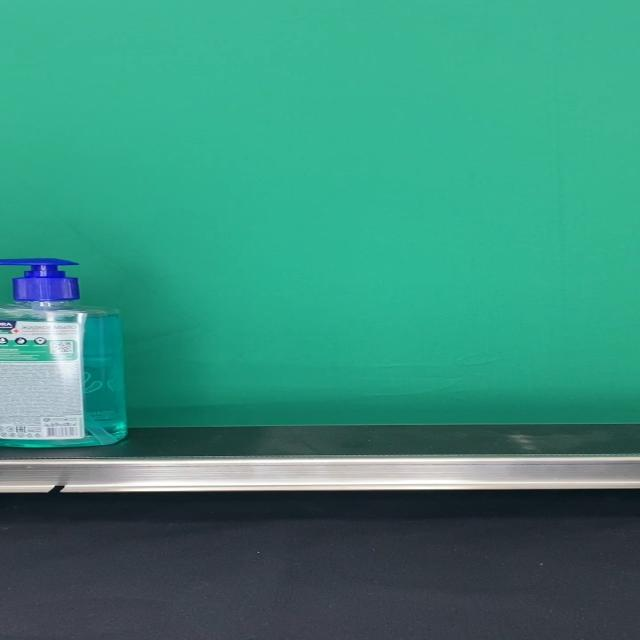Bottle: (0, 258, 128, 447)
Cap: (0, 258, 80, 301)
